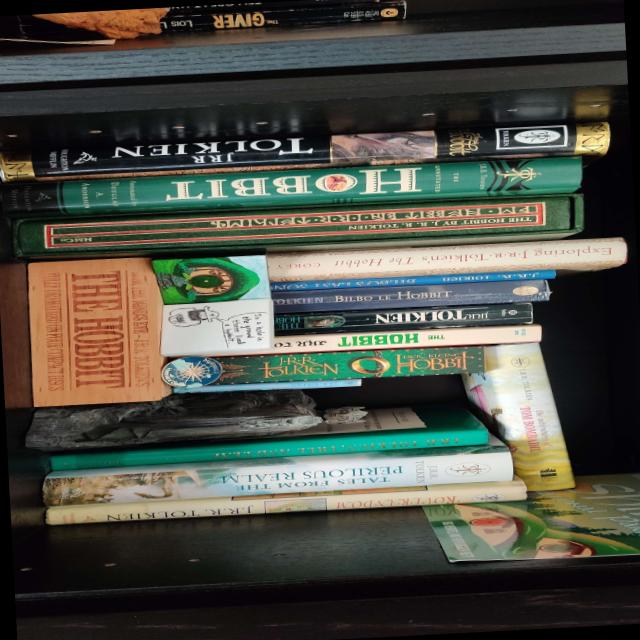book: (12, 190, 584, 267), (0, 122, 610, 184), (0, 156, 582, 220), (41, 435, 512, 512), (47, 401, 488, 473), (43, 478, 526, 526), (454, 333, 578, 509), (266, 236, 627, 288), (205, 324, 540, 358), (209, 345, 484, 386), (271, 278, 549, 315), (272, 302, 534, 336), (158, 0, 408, 34), (268, 269, 556, 293), (21, 404, 58, 452)
